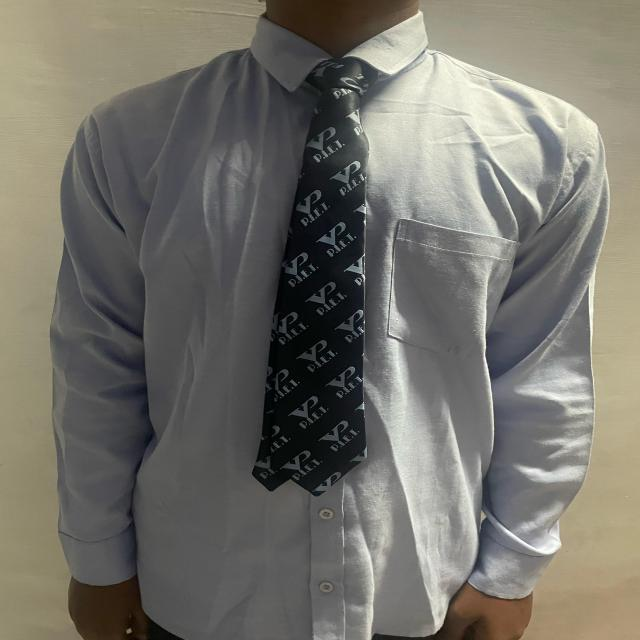Tie: (251, 57, 379, 496)
uniform: (48, 10, 610, 638)
